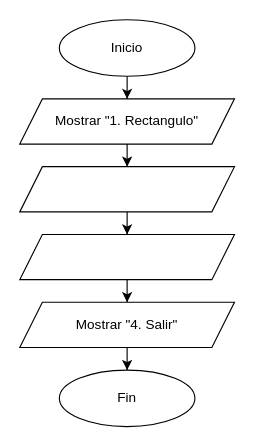
This 254x446 diagram has some shape labels left out. Here are the shapes that lost their labels. From the top down, the centre of each, then its label:
the point at 126,189: Mostrar "2. Triangulo"
the point at 126,256: Mostrar "3. Circulo"
